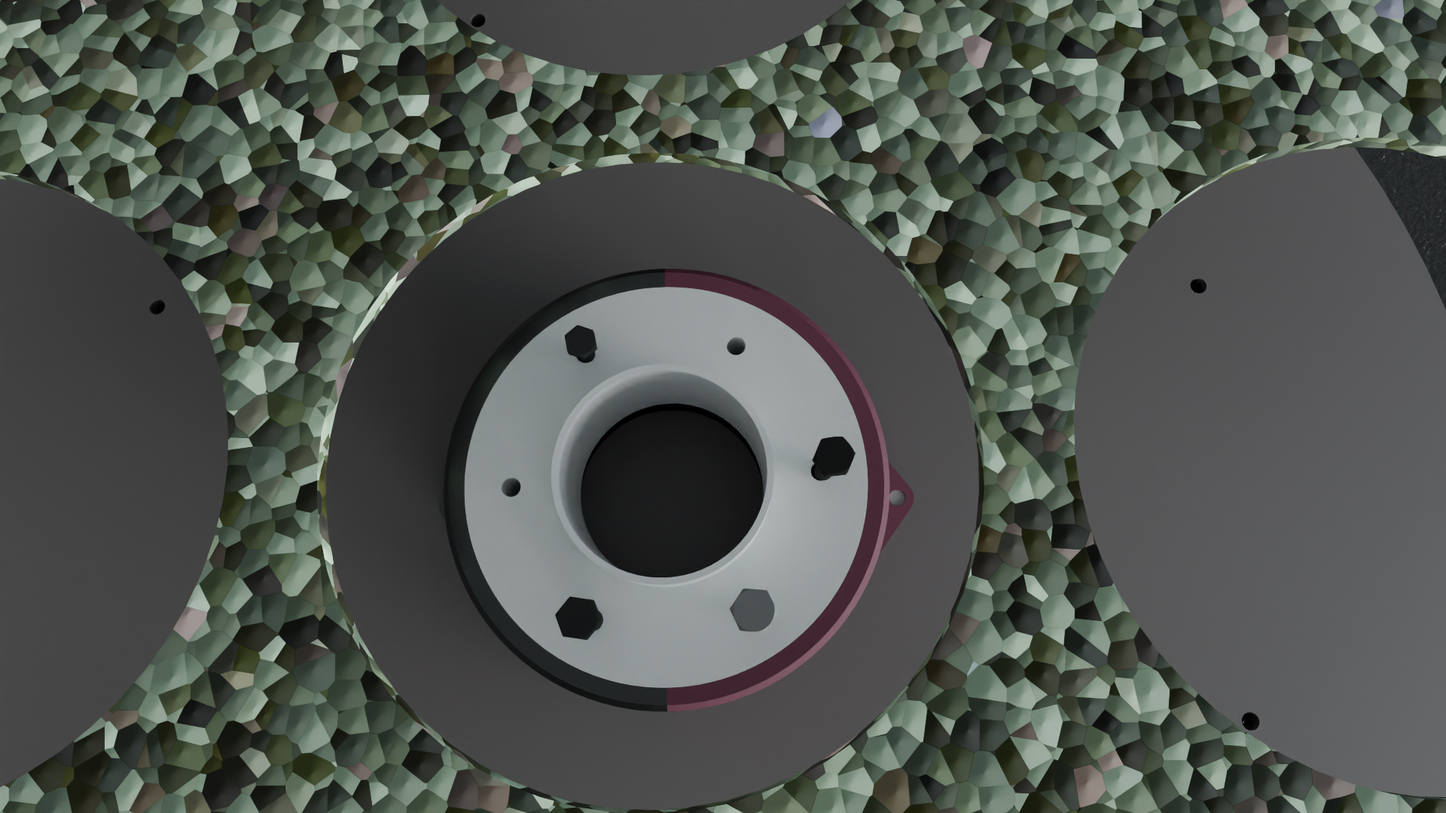bolt: (730, 589, 778, 632), (555, 596, 600, 640), (813, 437, 856, 475), (565, 325, 596, 357)
